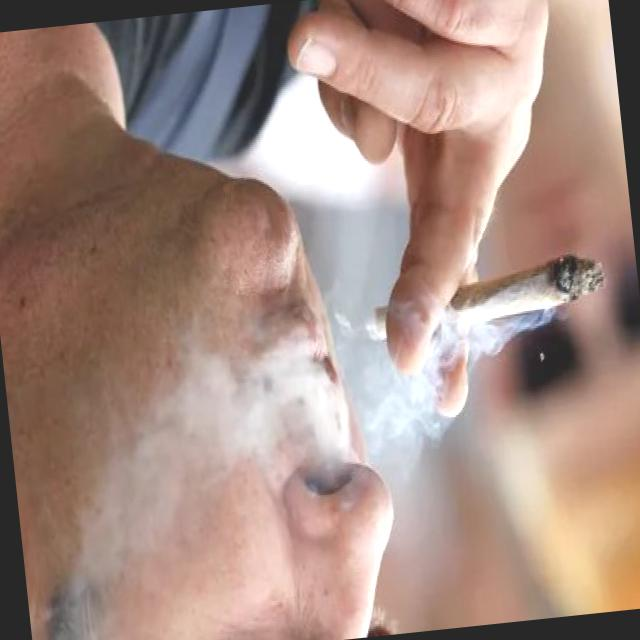cigarette: (366, 250, 611, 349)
